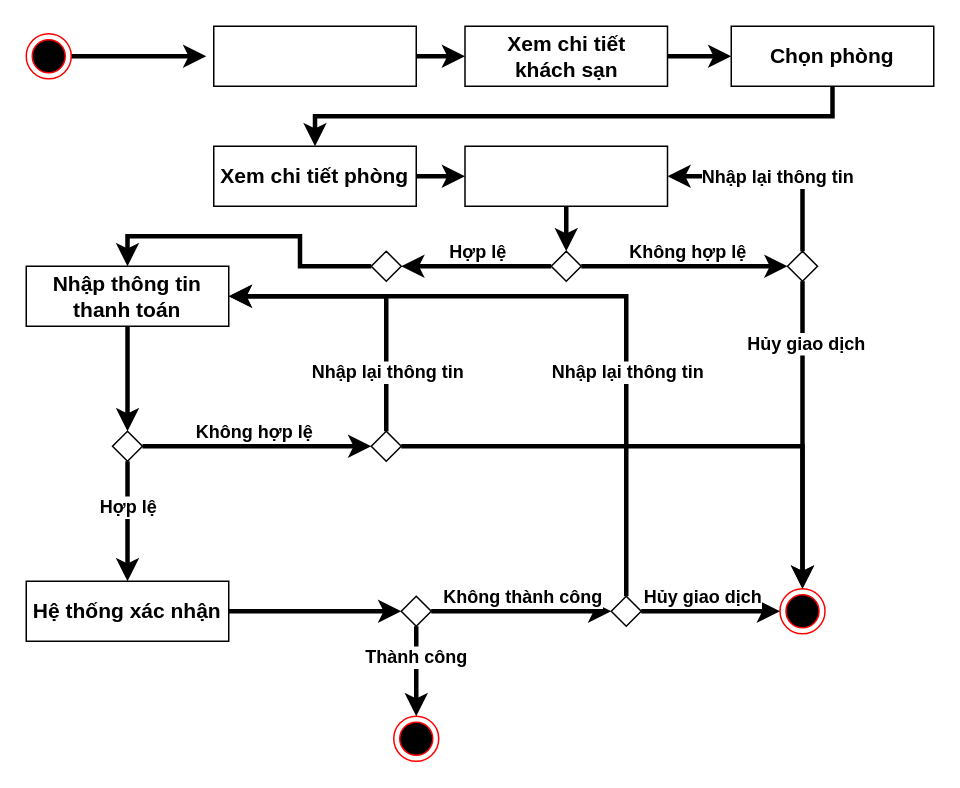
This 960x788 diagram has some shape labels left out. The shapes that lost their labels are listed below. From the top down, each one's centre as x and y in pixels, then its label:
At (314,55): "Chọn khách sạn".
At (566,175): "Nhập thông tin".
